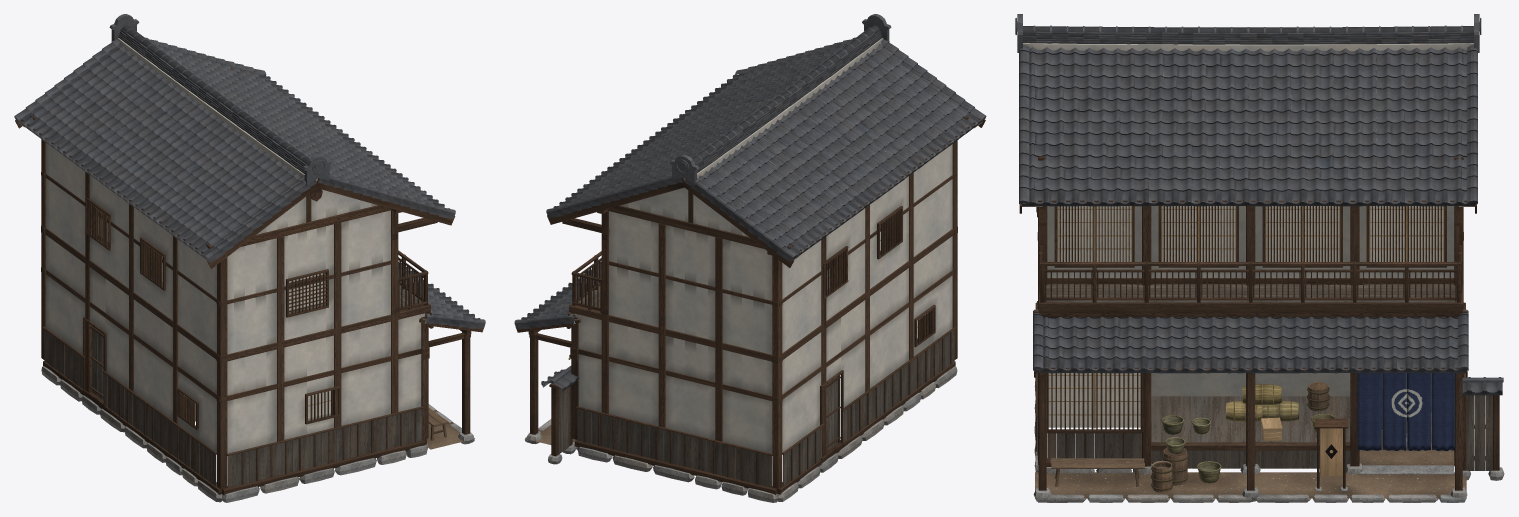
File: machiya_b.glb
The picture shows the model from 3 angles, left to right: view 1: azimuth 30°, elevation 25°; view 2: azimuth 150°, elevation 25°; view 3: azimuth 270°, elevation 25°; orthographic projection. The views are drawn at different scales.
Visible parts, largest first — view 1: machiya_b_plaster_white, machiya_b_tile_ibushi, machiya_b_wood_dark, machiya_b_wood_weathered, machiya_b_stone_granite, machiya_b_paper_shoji, machiya_b_tile_manju, machiya_b_earth_floor; view 2: machiya_b_plaster_white, machiya_b_tile_ibushi, machiya_b_wood_dark, machiya_b_wood_weathered, machiya_b_stone_granite, machiya_b_tile_manju; view 3: machiya_b_tile_ibushi, machiya_b_wood_dark, machiya_b_wood_weathered, machiya_b_paper_shoji, machiya_b_plaster_white, machiya_b_earth_floor, machiya_b_noren_b, machiya_b_stone_granite, machiya_b_wood_fresh, machiya_b_plaster_white#0.7, machiya_b_wood_aged, machiya_b_straw (+3 smaller).
Boxes of the visible parts, x1,y1,x2,y2 form: machiya_b_plaster_white: (46, 38, 426, 453); machiya_b_tile_ibushi: (14, 14, 485, 328); machiya_b_wood_dark: (15, 67, 483, 495); machiya_b_wood_weathered: (18, 67, 426, 487); machiya_b_stone_granite: (41, 366, 474, 502); machiya_b_paper_shoji: (98, 216, 330, 421); machiya_b_tile_manju: (15, 76, 480, 319); machiya_b_earth_floor: (427, 410, 474, 449); machiya_b_plaster_white: (574, 38, 952, 453); machiya_b_tile_ibushi: (514, 14, 986, 391); machiya_b_wood_dark: (516, 59, 985, 494); machiya_b_wood_weathered: (546, 49, 982, 487); machiya_b_stone_granite: (525, 366, 957, 502); machiya_b_tile_manju: (521, 74, 981, 390); machiya_b_tile_ibushi: (1015, 14, 1503, 395); machiya_b_wood_dark: (1019, 55, 1499, 490); machiya_b_wood_weathered: (1022, 54, 1492, 470); machiya_b_paper_shoji: (1048, 117, 1443, 427); machiya_b_plaster_white: (1023, 43, 1473, 284); machiya_b_earth_floor: (1035, 415, 1466, 498); machiya_b_noren_b: (1357, 372, 1454, 451); machiya_b_stone_granite: (1033, 378, 1504, 502); machiya_b_wood_fresh: (1048, 206, 1444, 476); machiya_b_plaster_white#0.7: (1151, 372, 1431, 421); machiya_b_wood_aged: (1050, 382, 1328, 492); machiya_b_straw: (1226, 384, 1298, 421).
Size of the model in its own units: 7.5 by 8.34 by 9.4.
Materials: 14 (13 with a texture image).
